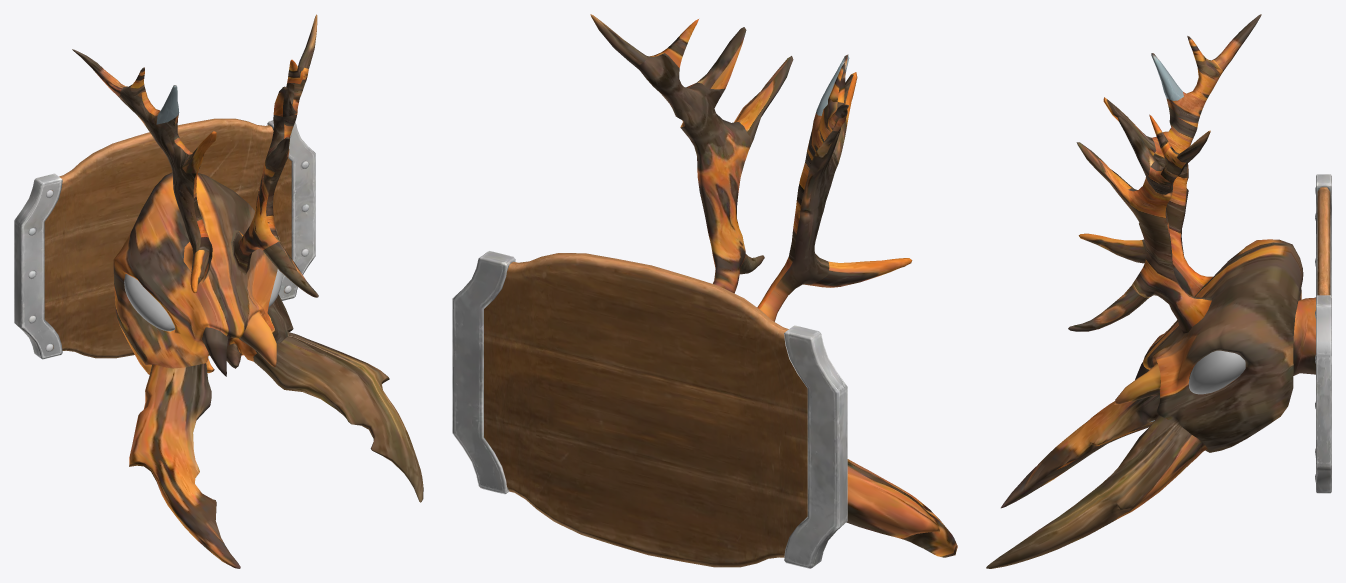
The picture shows the model from 3 angles, left to right: view 1: azimuth 30°, elevation 25°; view 2: azimuth 150°, elevation 25°; view 3: azimuth 270°, elevation 25°; orthographic projection. The views are drawn at different scales.
Parts seen in each view (by area): view 1: SM_Trophy_Plaque_QueenFlier_LOD0; view 2: SM_Trophy_Plaque_QueenFlier_LOD0; view 3: SM_Trophy_Plaque_QueenFlier_LOD0.
Boxes of the visible parts, x1=… form: SM_Trophy_Plaque_QueenFlier_LOD0: x1=14, y1=14, x2=423, y2=568; SM_Trophy_Plaque_QueenFlier_LOD0: x1=452, y1=14, x2=957, y2=568; SM_Trophy_Plaque_QueenFlier_LOD0: x1=986, y1=14, x2=1331, y2=568.
Bounding box in the file's own units: 1.95 × 2.78 × 1.85.
